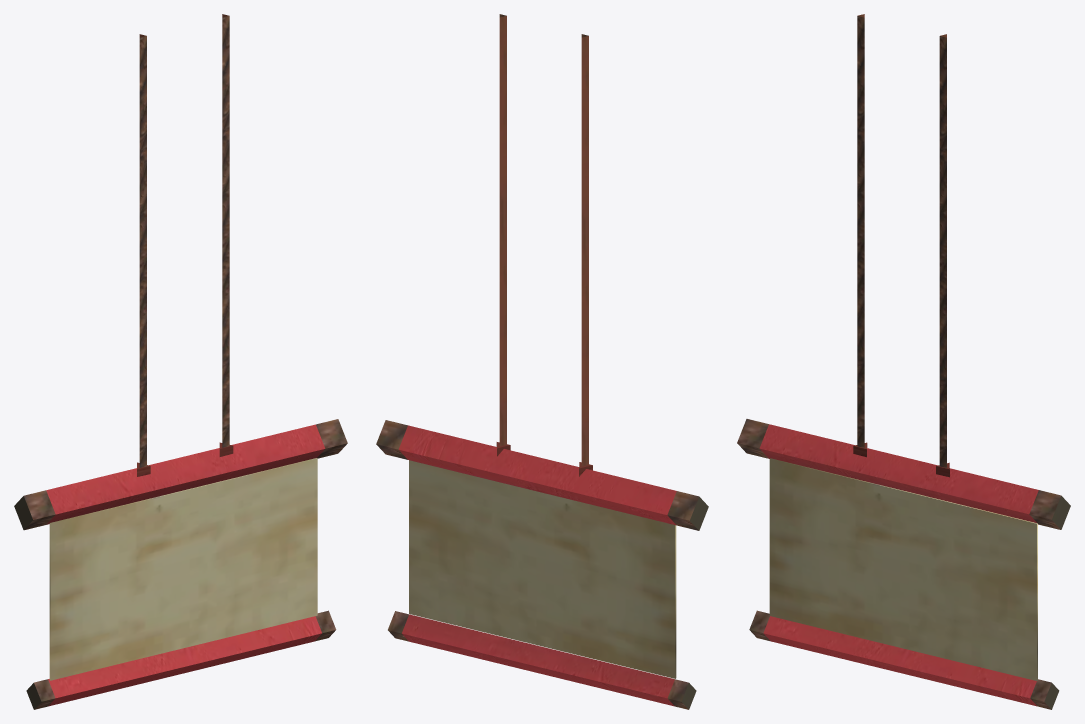
File: pm-poster-01.glb
The picture shows the model from 3 angles, left to right: view 1: azimuth 30°, elevation 25°; view 2: azimuth 150°, elevation 25°; view 3: azimuth 330°, elevation 25°; orthographic projection.
Visible parts, largest first — view 1: Poster01; view 2: Poster01; view 3: Poster01.
Boxes of the visible parts, x1,y1,x2,y2 form: Poster01: [14, 14, 347, 709]; Poster01: [376, 14, 708, 709]; Poster01: [737, 14, 1070, 709].
Bounding box in the file's own units: 2.66 × 5.25 × 0.2808.
2 materials, 2 textured.
